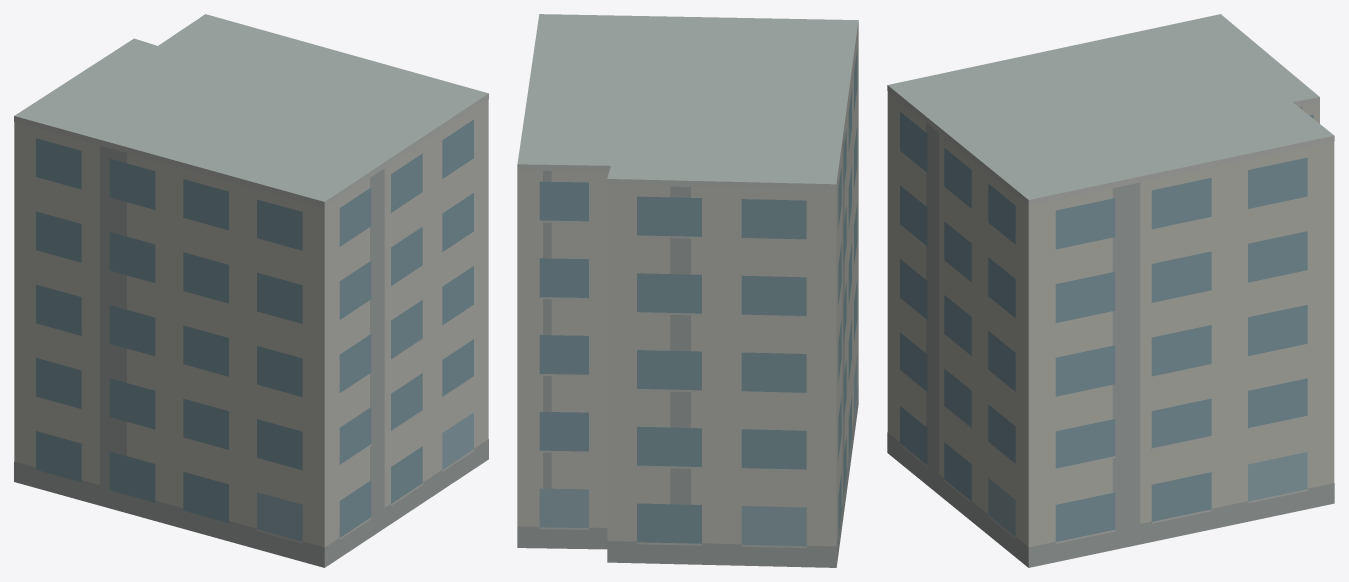
Rendered from survey-upis-32841218.glb.
3 renders of one model, left to right at view 1: azimuth 30°, elevation 25°; view 2: azimuth 150°, elevation 25°; view 3: azimuth 270°, elevation 25°, orthographic. The views are drawn at different scales.
Parts seen in each view (by area): view 1: survey-upis-32841218.tmp; view 2: survey-upis-32841218.tmp; view 3: survey-upis-32841218.tmp.
Boxes of the visible parts, x1,y1,x2,y2 form: survey-upis-32841218.tmp: [14, 14, 488, 567]; survey-upis-32841218.tmp: [517, 14, 858, 567]; survey-upis-32841218.tmp: [887, 14, 1334, 567].
Bounding box in the file's own units: 16.27 × 15 × 16.52.
